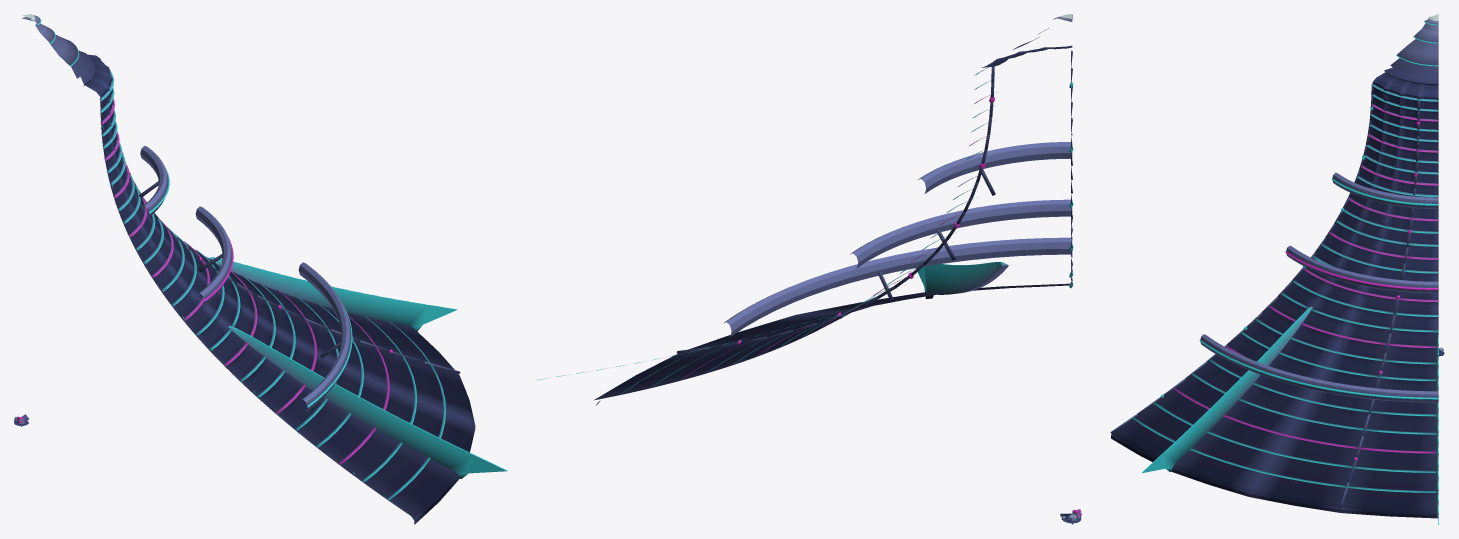
File: core-s3-DvgipC97.glb
3 views of the same model, side by side, from view 1: azimuth 30°, elevation 25°; view 2: azimuth 150°, elevation 25°; view 3: azimuth 270°, elevation 25° (orthographic). The views are drawn at different scales.
Visible parts, largest first — view 1: sc_landmark_5; view 2: sc_landmark_5; view 3: sc_landmark_5.
Boxes of the visible parts, x1,y1,x2,y2 form: sc_landmark_5: (22, 14, 507, 524); sc_landmark_5: (537, 14, 1073, 405); sc_landmark_5: (1110, 14, 1438, 524).
Size of the model in its own units: 422 by 377 by 332.
